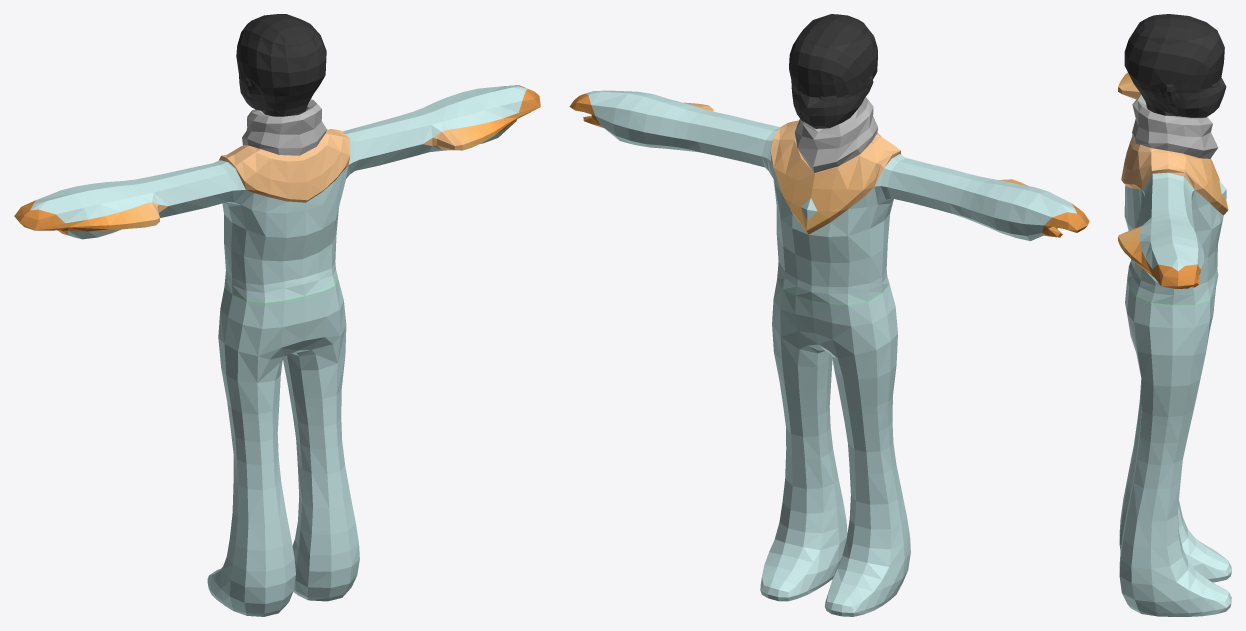
File: CharSkyNPC_Body_AP07Jumpsuits_01.glb
3 views of the same model, side by side, from view 1: azimuth 30°, elevation 25°; view 2: azimuth 150°, elevation 25°; view 3: azimuth 270°, elevation 25° (orthographic).
Visible parts, largest first — view 1: CharSkyNPC_Body_AP07Jumpsuits_01; view 2: CharSkyNPC_Body_AP07Jumpsuits_01; view 3: CharSkyNPC_Body_AP07Jumpsuits_01.
Boxes of the visible parts, x1,y1,x2,y2 form: CharSkyNPC_Body_AP07Jumpsuits_01: (14, 14, 540, 616); CharSkyNPC_Body_AP07Jumpsuits_01: (569, 14, 1089, 616); CharSkyNPC_Body_AP07Jumpsuits_01: (1118, 14, 1231, 616).
Bounding box in the file's own units: 13.83 × 14.57 × 2.63.
Materials: 1 (1 with a texture image).
